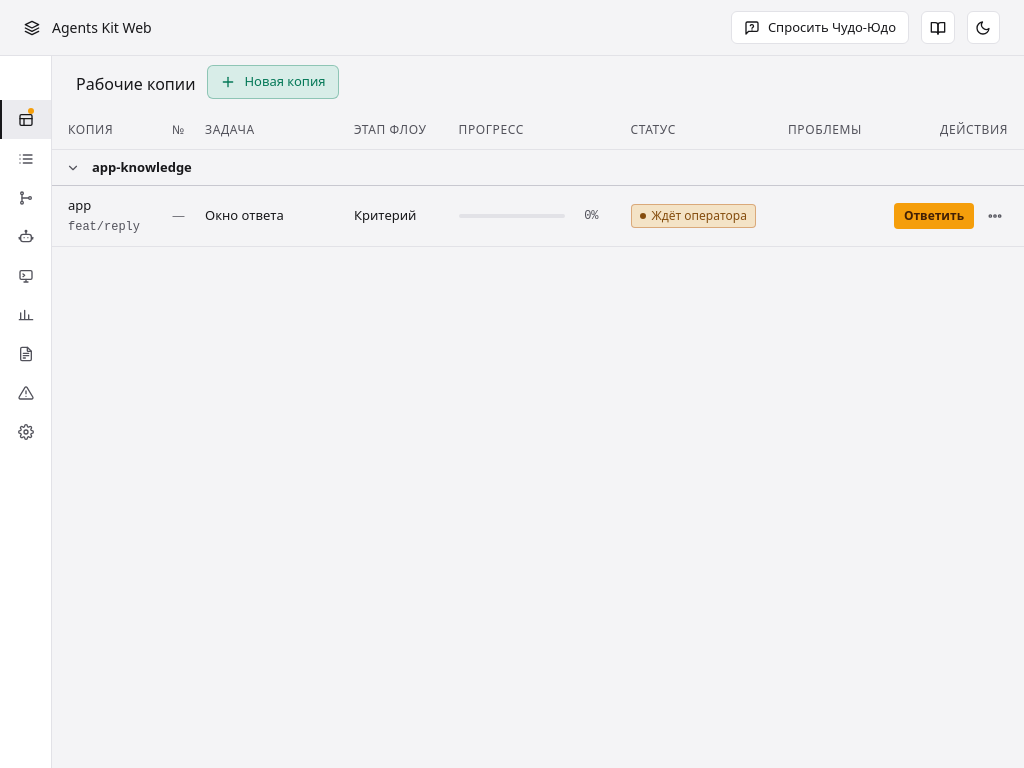
задача не прочиталась — на её месте пусто, без тире
Click the button "Ответить" at (934, 216), box x1=894 y1=203 x2=974 y2=229
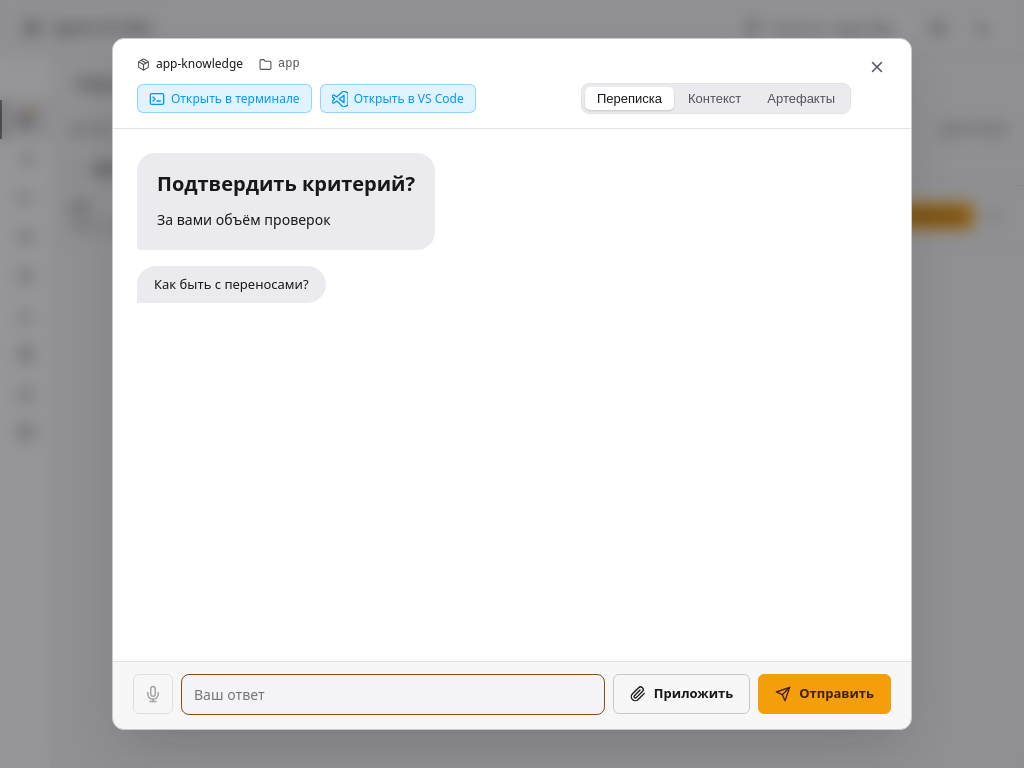
Expected: the element with class "task-strip" does not show "—"
Result: the heading "Подтвердить критерий?" is shown at x1=157 y1=171 x2=415 y2=197
Result: the element with class "strip-meta" reads "app-knowledge app" at x1=137 y1=55 x2=300 y2=72
